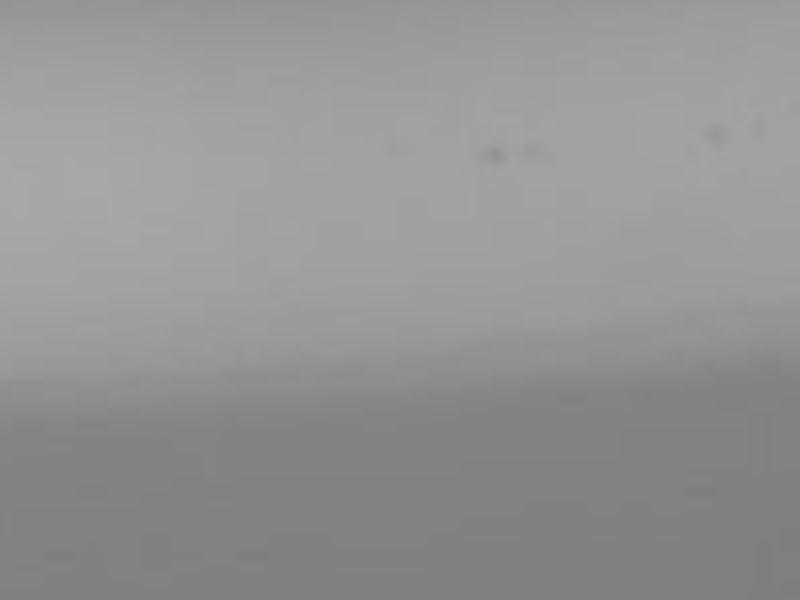defect: (702, 124, 728, 150), (482, 144, 508, 166), (521, 143, 550, 162), (679, 140, 702, 163), (745, 113, 765, 137), (382, 140, 398, 159)
